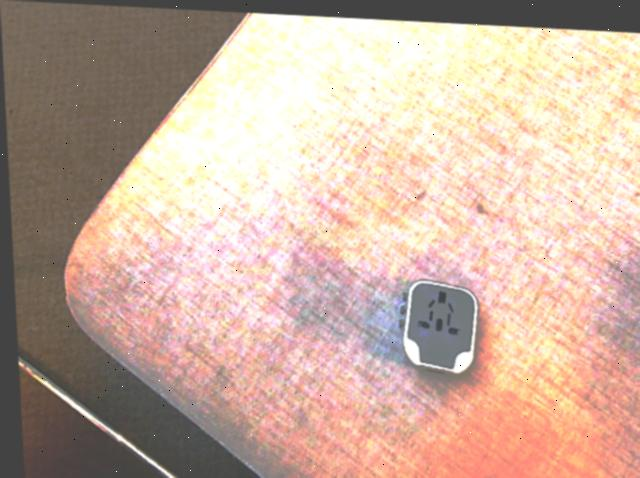adapter: (394, 274, 477, 371)
